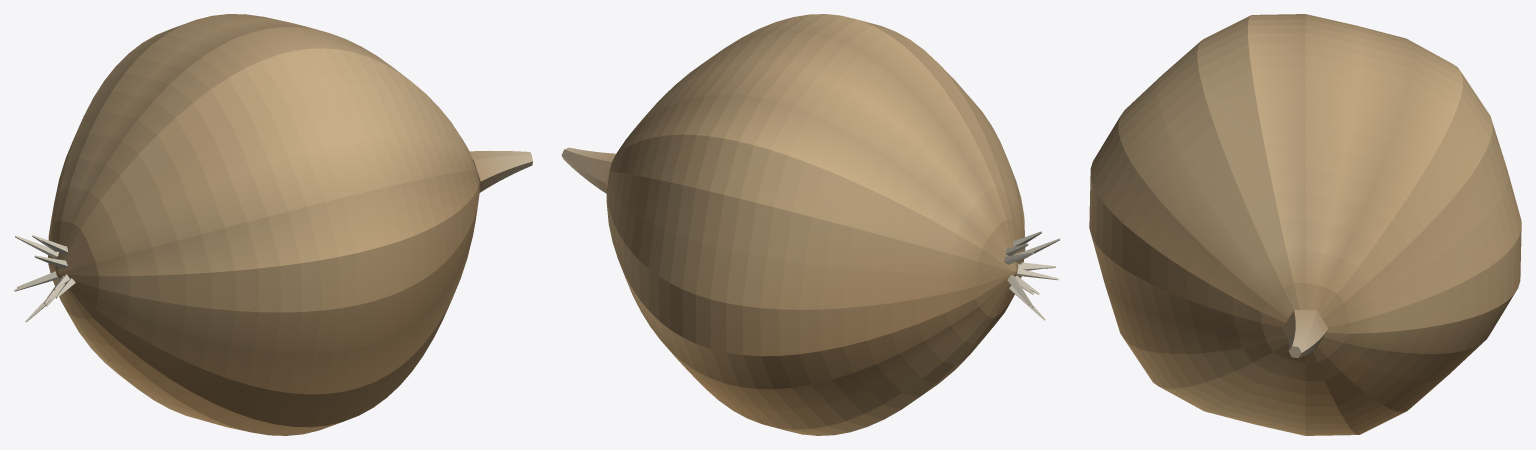
Rendered from onion.glb.
3 views of the same model, side by side, from view 1: azimuth 30°, elevation 25°; view 2: azimuth 150°, elevation 25°; view 3: azimuth 270°, elevation 25° (orthographic). The views are drawn at different scales.
Visible parts, largest first — view 1: onion; view 2: onion; view 3: onion.
Boxes of the visible parts, x1,y1,x2,y2 form: onion: [14, 14, 532, 435]; onion: [561, 14, 1060, 435]; onion: [1089, 14, 1521, 435].
Bounding box in the file's own units: 1.15 × 0.847 × 0.847.
